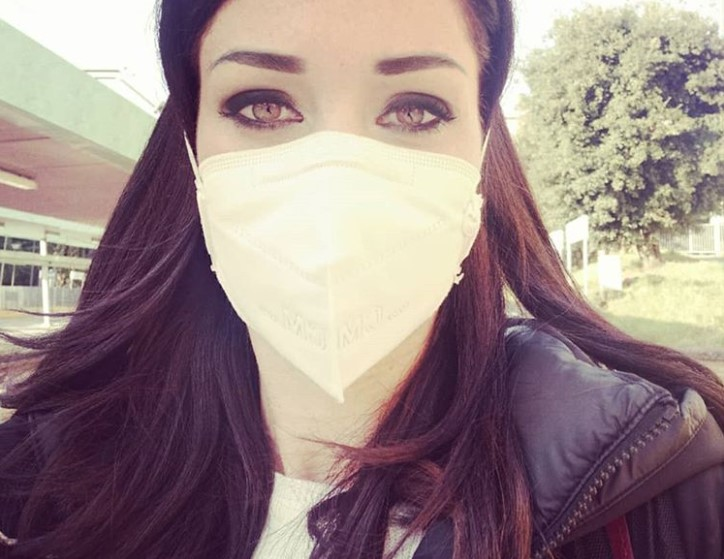face_with_mask: (176, 9, 500, 397)
